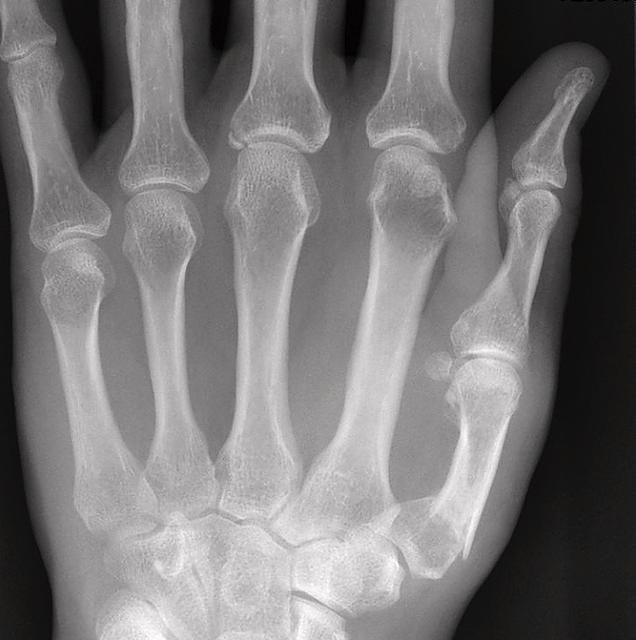fracture: (418, 497, 478, 569), (227, 127, 251, 152)
